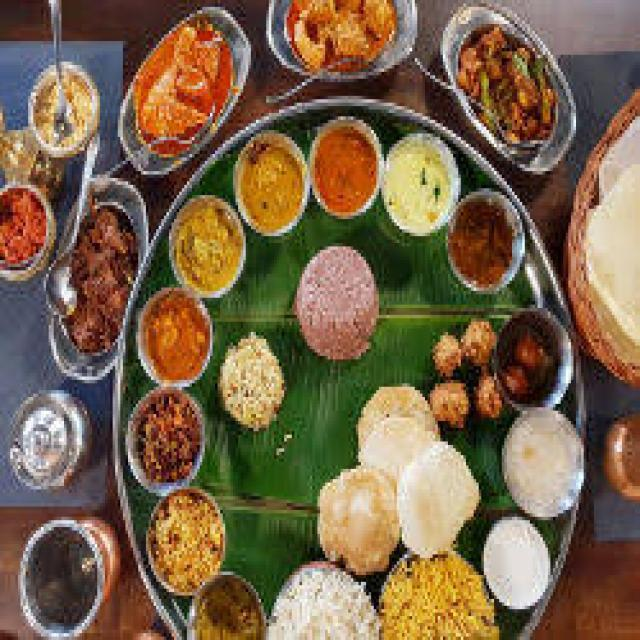curd: (490, 400, 590, 523), (475, 508, 570, 615)
dal: (228, 129, 313, 240), (164, 195, 251, 301), (308, 123, 388, 215)
papad: (309, 391, 485, 566)
pickle: (493, 302, 577, 412), (0, 187, 44, 276)
raita: (493, 400, 591, 521)
rice: (581, 145, 639, 372), (255, 558, 386, 640), (138, 488, 227, 594)
sambar-rasam: (592, 407, 640, 513)
sweet: (494, 308, 574, 408), (591, 408, 640, 517)
veg-fry: (121, 13, 250, 186), (447, 17, 573, 169)
